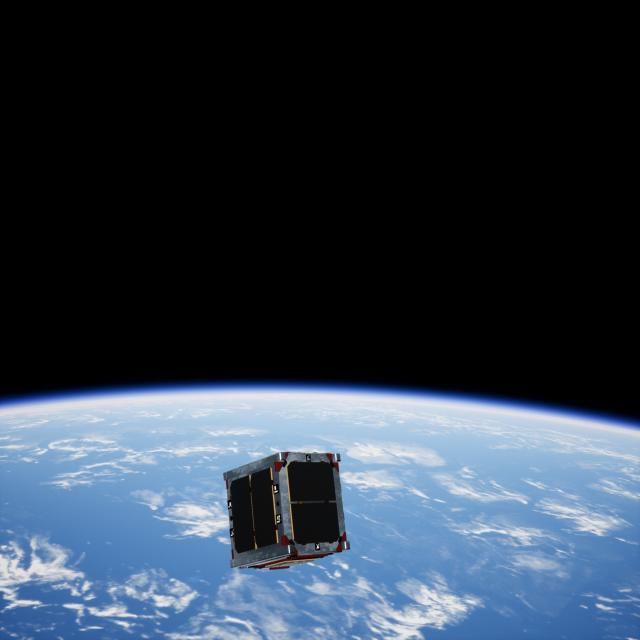medium_debris: (221, 447, 354, 576)
